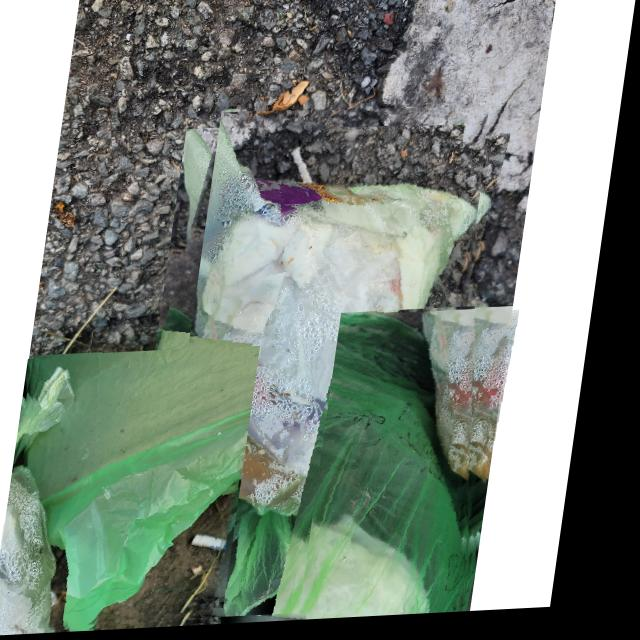general_trashbag: (208, 114, 489, 619), (43, 349, 270, 628), (318, 316, 484, 621)
